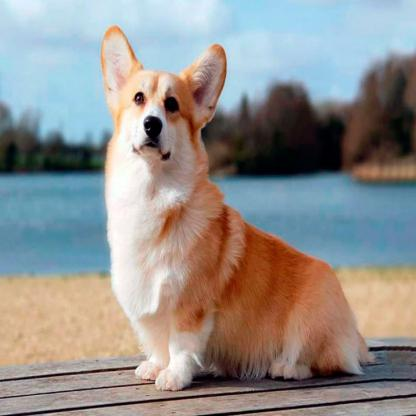Korgi: (93, 24, 373, 387)
